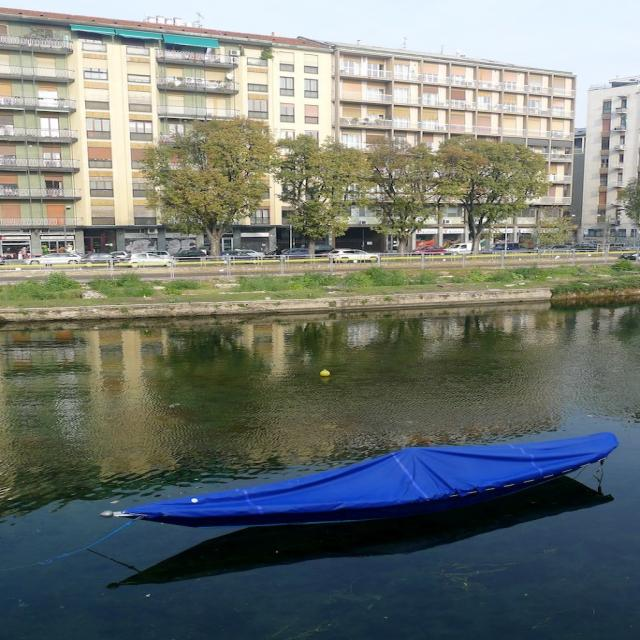Boat: (96, 428, 632, 562)
